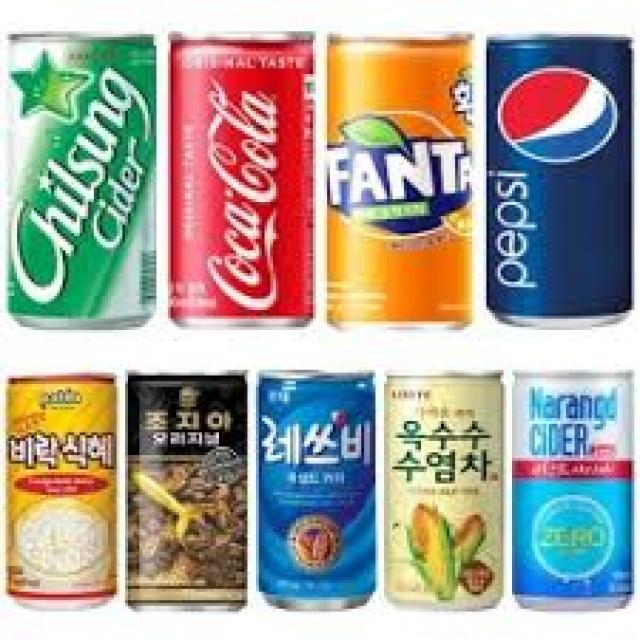Coca-Cola: (155, 14, 322, 332)
